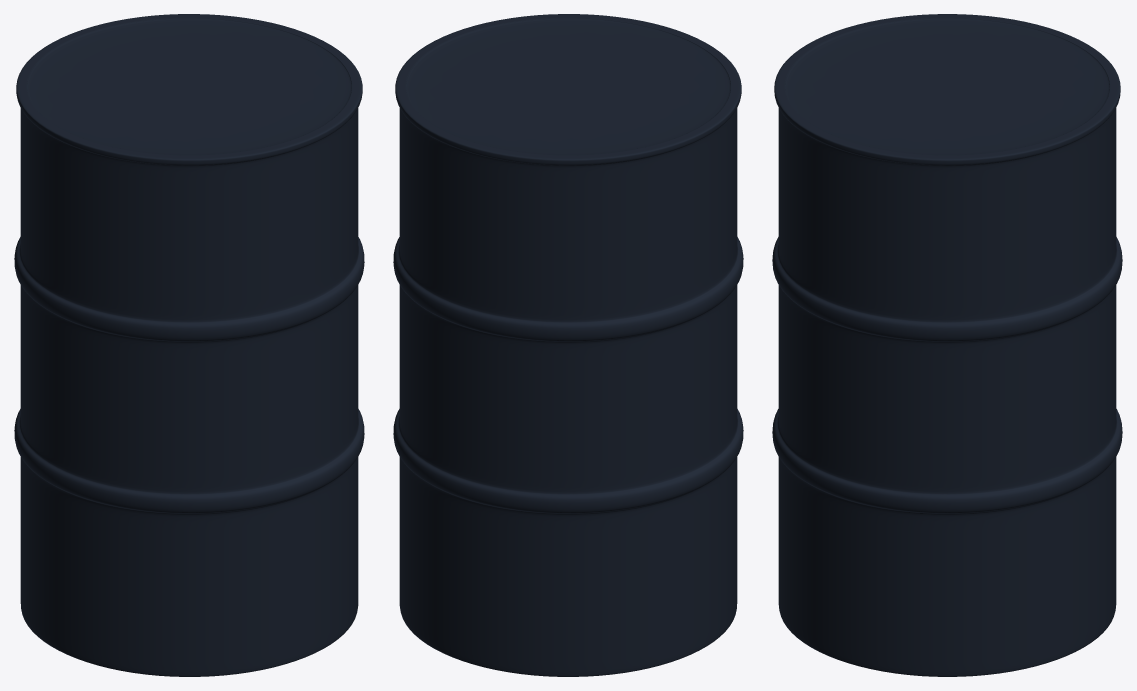
Rendered from Steel_Drum.fbx.
The picture shows the model from 3 angles, left to right: view 1: azimuth 30°, elevation 25°; view 2: azimuth 150°, elevation 25°; view 3: azimuth 270°, elevation 25°; orthographic projection.
Parts seen in each view (by area): view 1: Steel_Drum; view 2: Steel_Drum; view 3: Steel_Drum.
Boxes of the visible parts, x1,y1,x2,y2 form: Steel_Drum: [14, 14, 364, 676]; Steel_Drum: [393, 14, 743, 676]; Steel_Drum: [772, 14, 1122, 676].
Size of the model in its own units: 0.4655 by 0.7624 by 0.4655.
1 material, 1 textured.
